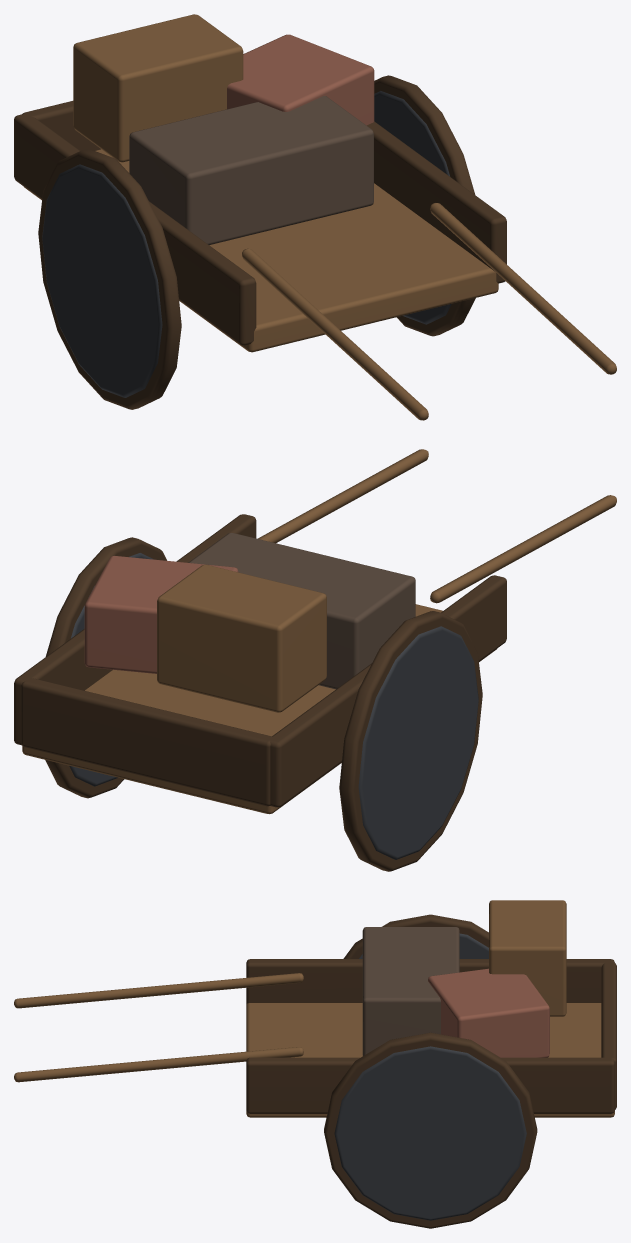
The model's file is handkar.glb.
The picture shows the model from 3 angles, top to bottom: view 1: azimuth 30°, elevation 25°; view 2: azimuth 150°, elevation 25°; view 3: azimuth 270°, elevation 25°; orthographic projection. The views are drawn at different scales.
Parts seen in each view (by area): view 1: Handkar; view 2: Handkar; view 3: Handkar.
Boxes of the visible parts, x1=… form: Handkar: x1=14, y1=14, x2=616, y2=420; Handkar: x1=14, y1=449, x2=616, y2=871; Handkar: x1=14, y1=900, x2=616, y2=1228.
Bounding box in the file's own units: 1.53 × 1.3 × 3.11.
